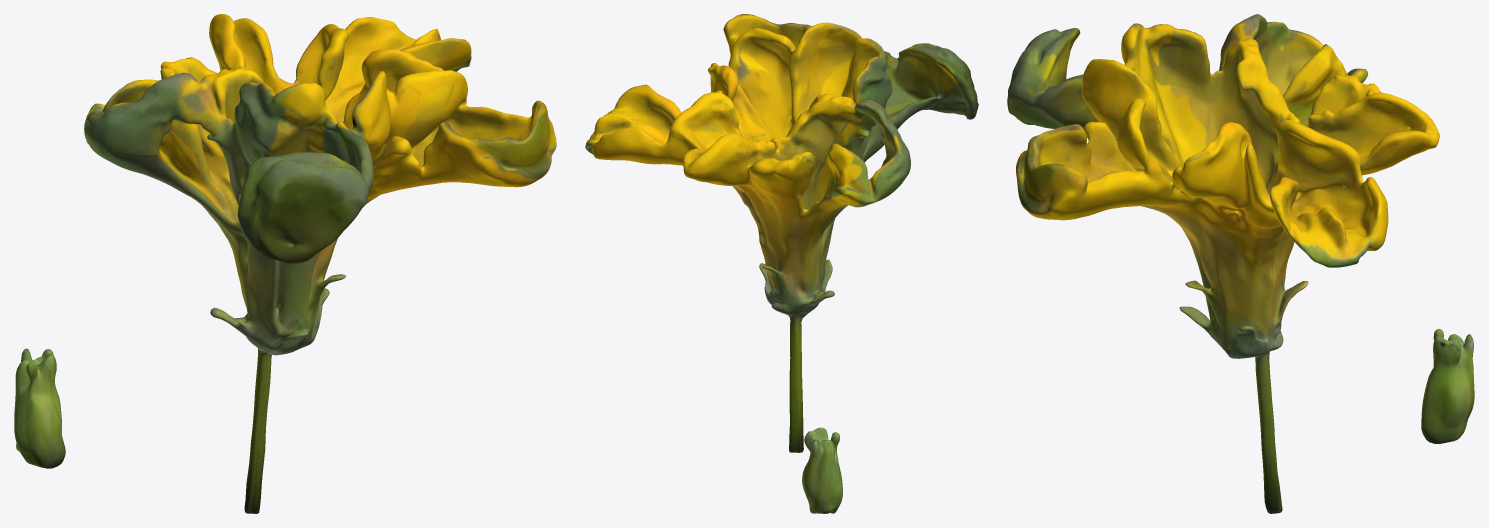
Rendered from creeper0050.gltf.
3 views of the same model, side by side, from view 1: azimuth 30°, elevation 25°; view 2: azimuth 150°, elevation 25°; view 3: azimuth 270°, elevation 25° (orthographic). The views are drawn at different scales.
Parts seen in each view (by area): view 1: Mesh_0.003; view 2: Mesh_0.003; view 3: Mesh_0.003.
Boxes of the visible parts, x1,y1,x2,y2 form: Mesh_0.003: (14, 14, 556, 513); Mesh_0.003: (585, 14, 978, 513); Mesh_0.003: (1007, 14, 1474, 513).
Size of the model in its own units: 1.67 by 1.99 by 1.78.
Materials: 1 (1 with a texture image).
